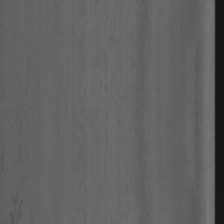water_spot: (75, 20, 147, 219), (7, 184, 28, 224)
